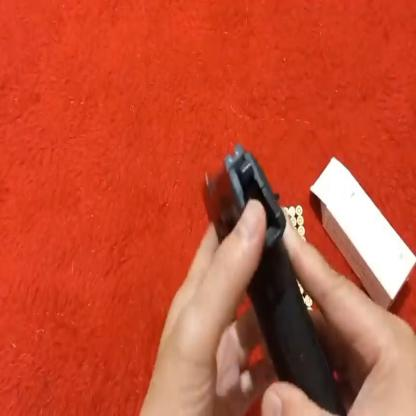handgun: (201, 149, 323, 391)
